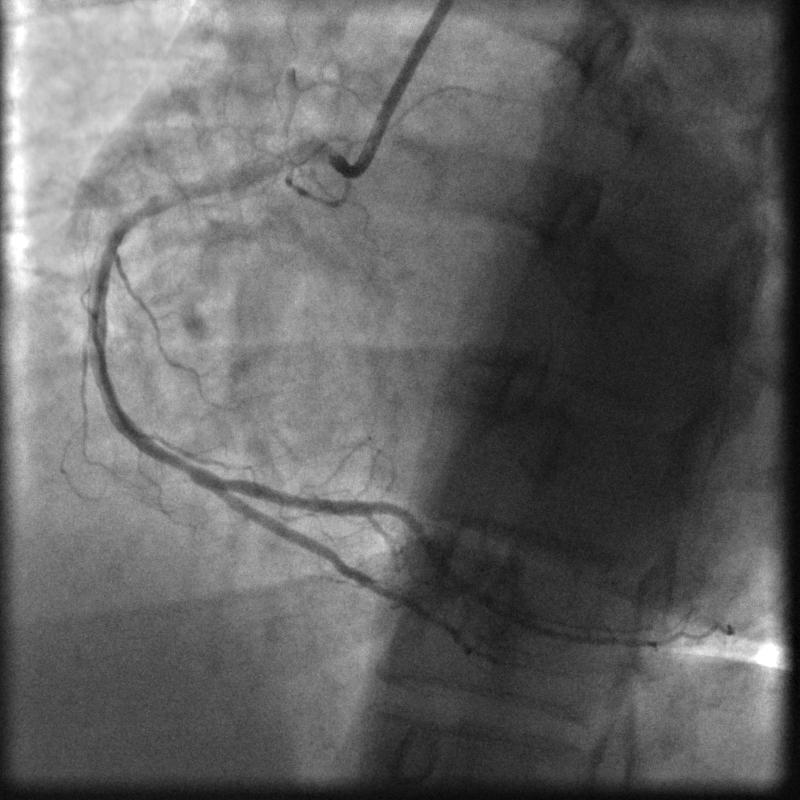Stenosis: (173, 445, 209, 492)
